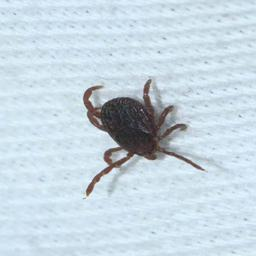Rhipicephalus sanguineus: (83, 80, 207, 196)
